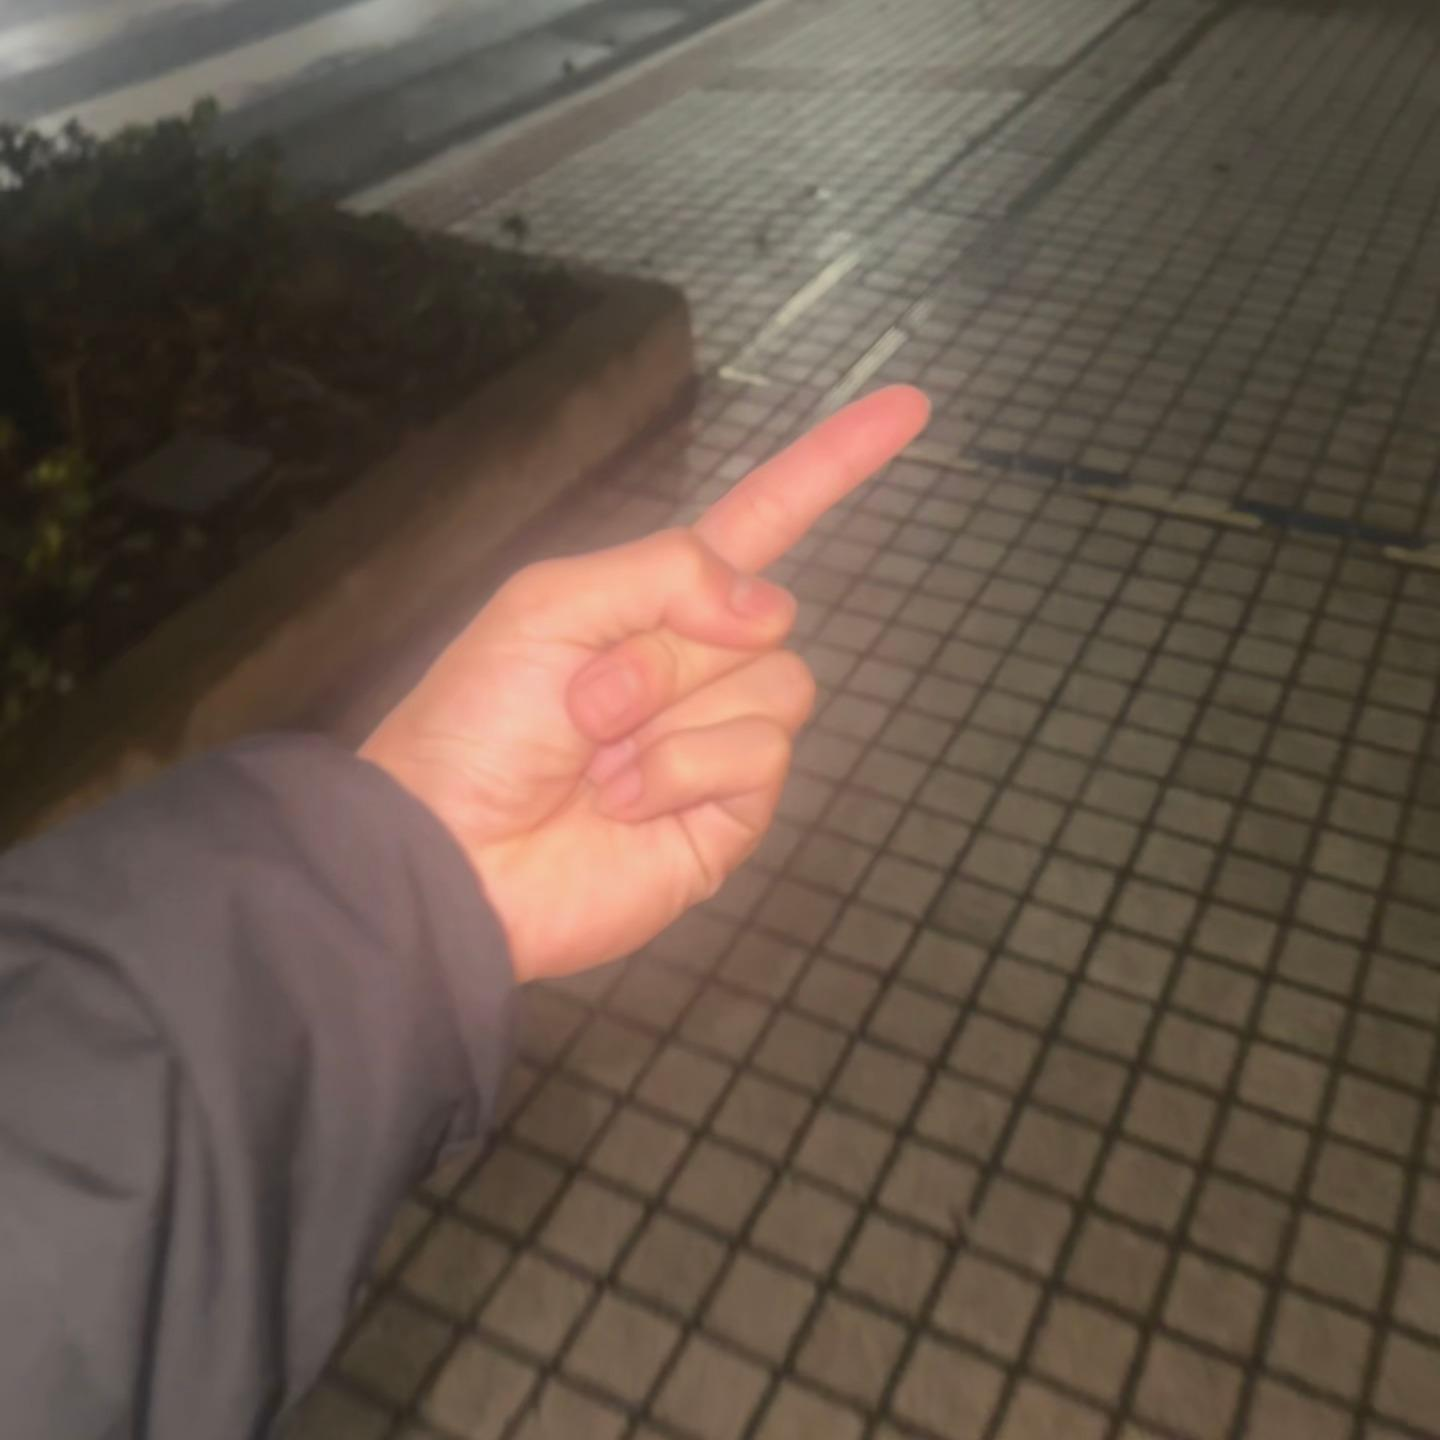without_gloves: (356, 264, 1072, 1000)
